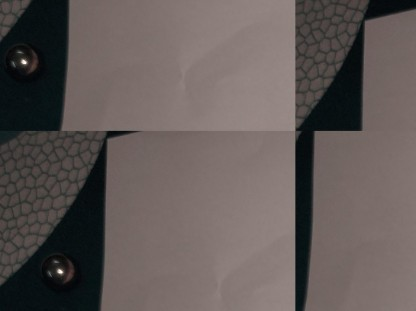ironball: (39, 248, 78, 289), (6, 41, 41, 78)
